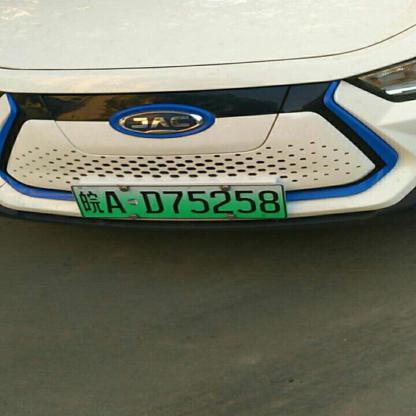lp: (70, 184, 285, 218)
